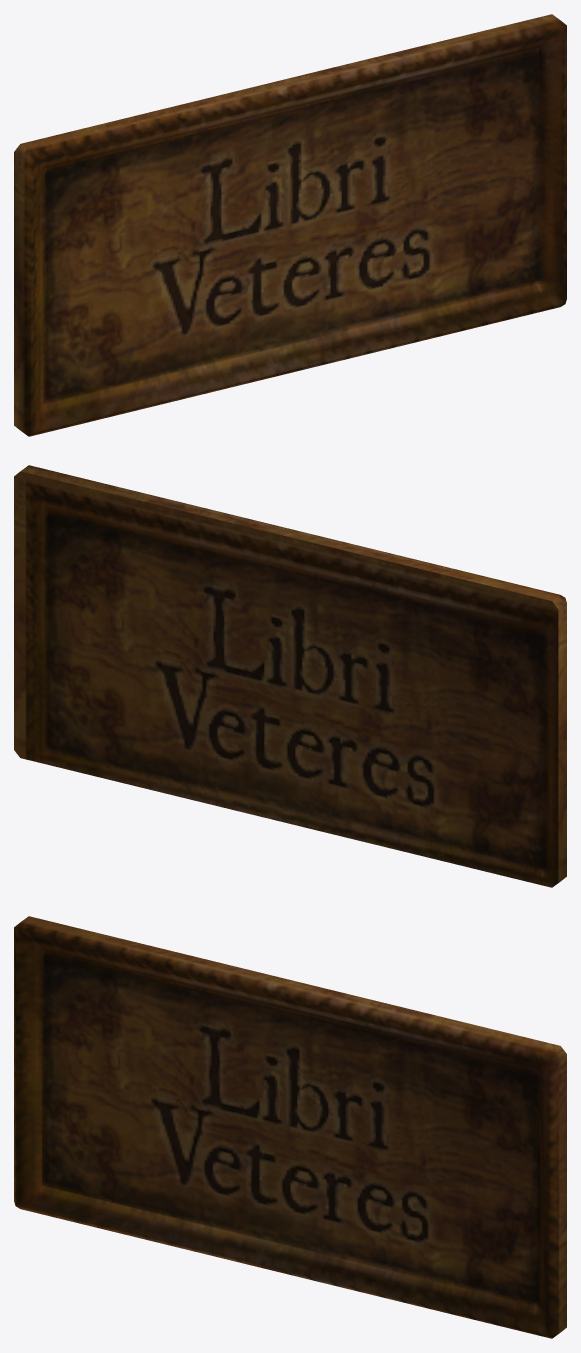
File: sign_ancient_tomes.dae
3 views of the same model, one above another, from view 1: azimuth 30°, elevation 25°; view 2: azimuth 150°, elevation 25°; view 3: azimuth 330°, elevation 25° (orthographic).
Parts seen in each view (by area): view 1: Box02; view 2: Box02; view 3: Box02.
Boxes of the visible parts, box(x1,y1,x2,y2) form: Box02: box(14, 14, 566, 436); Box02: box(14, 465, 566, 887); Box02: box(14, 916, 566, 1338).
Size of the model in its own units: 0.6037 by 0.0235 by 0.3038.
